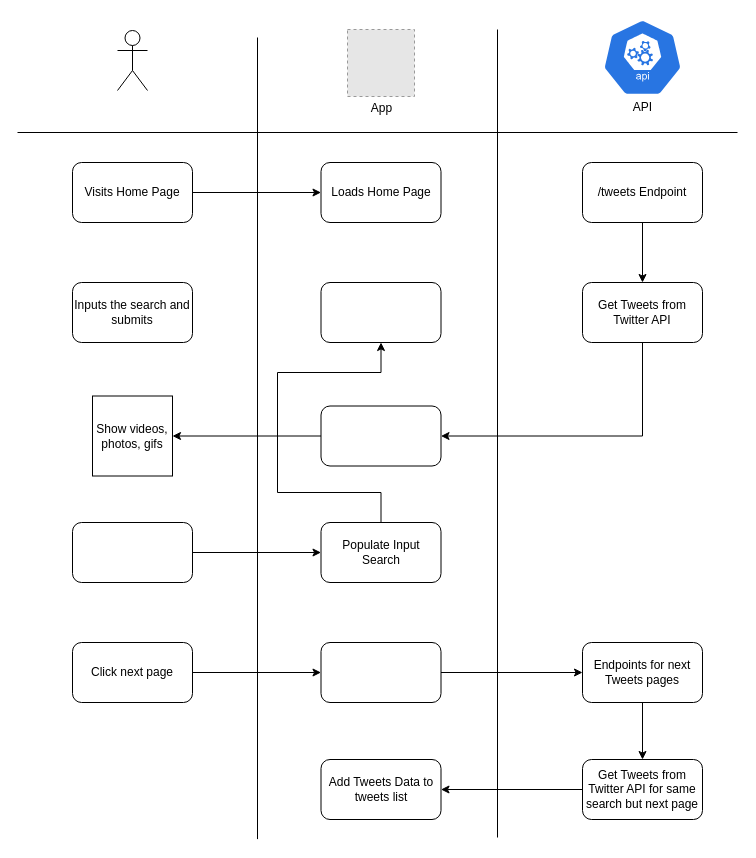
The diagram is 756 pixels wide and 858 high, and some of its shapes have lost their labels. Grey dashed boxes stand in for pictures. Each missing label, with the box of its shape:
Click on Trending Hashtag: (72, 522, 192, 582)
Get Tweets based on Search: (320, 282, 441, 342)
Get Tweets for next page: (320, 642, 441, 702)
Show Tweets List: (320, 405, 441, 466)
User: (116, 30, 148, 90)
